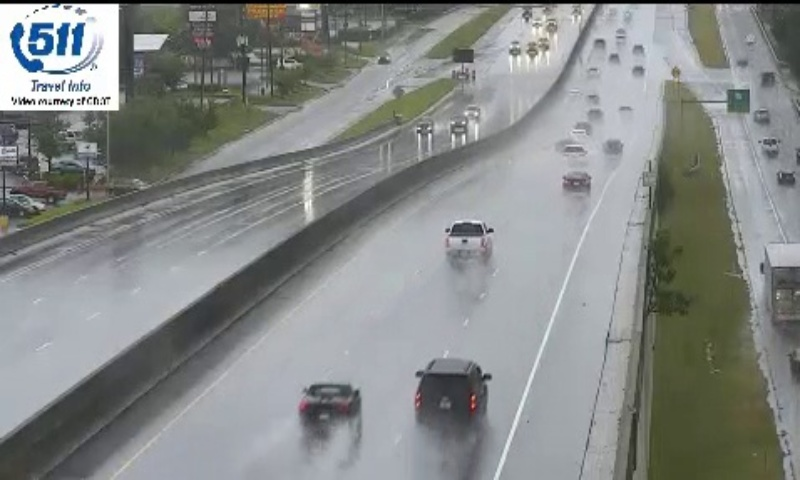car: (415, 360, 487, 426), (299, 383, 361, 427), (445, 220, 492, 258), (562, 170, 592, 192)
